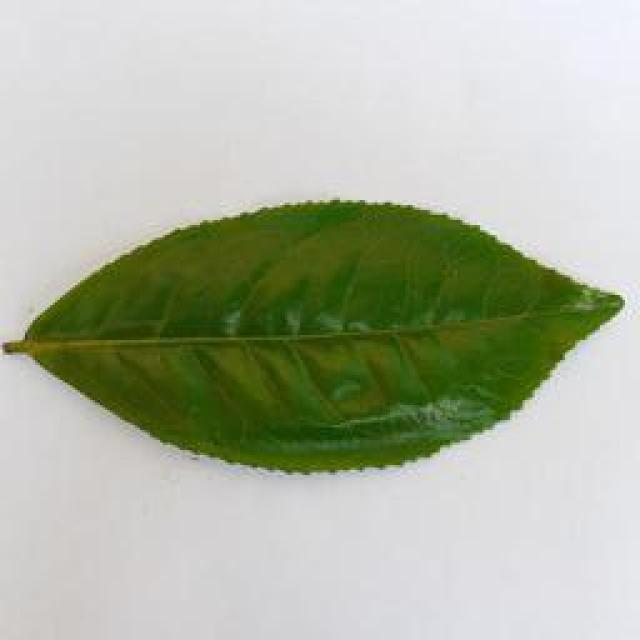Healthy: (0, 174, 640, 482)
